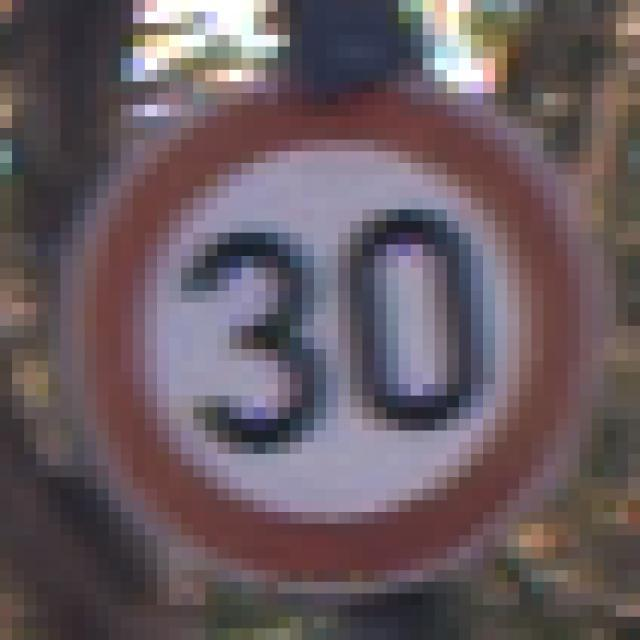Speed Limit -30-: (66, 52, 562, 564)
